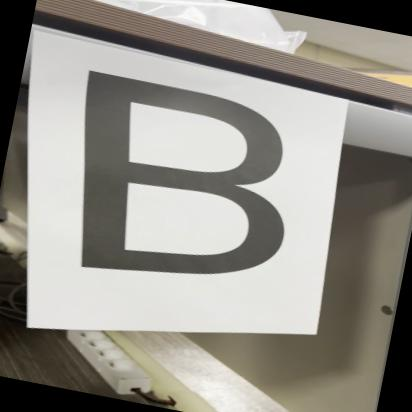seat: (19, 49, 325, 315)
